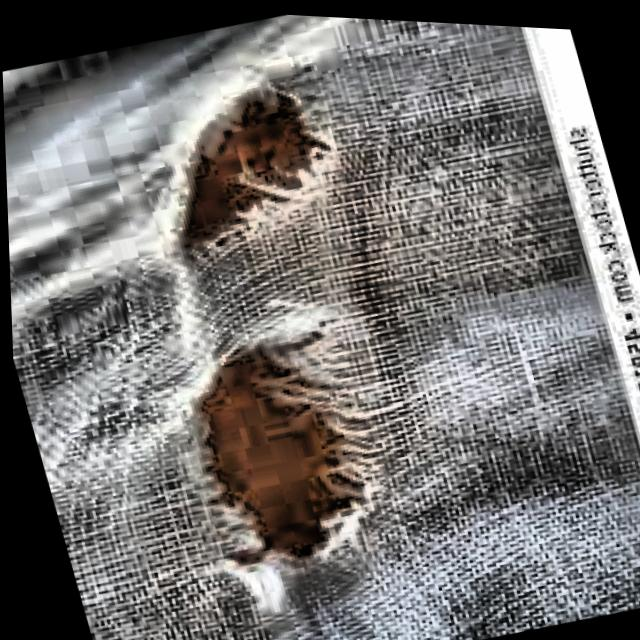Hole: (124, 264, 433, 629), (118, 41, 378, 299)
